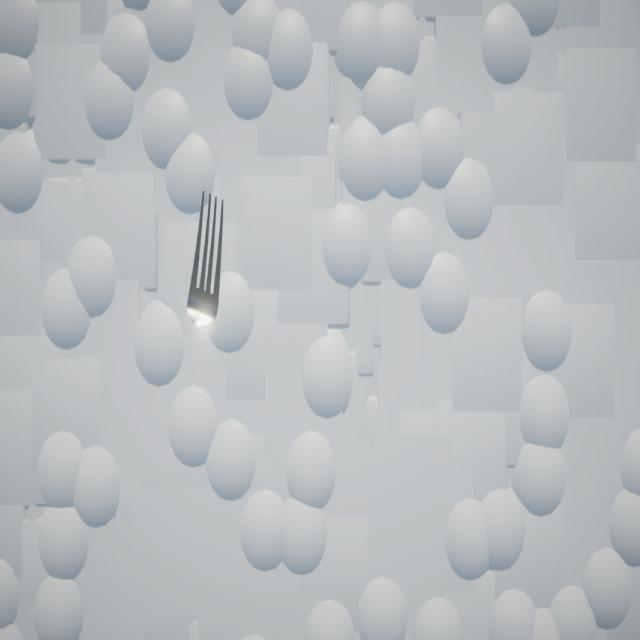top_folk: (188, 193, 225, 329)
